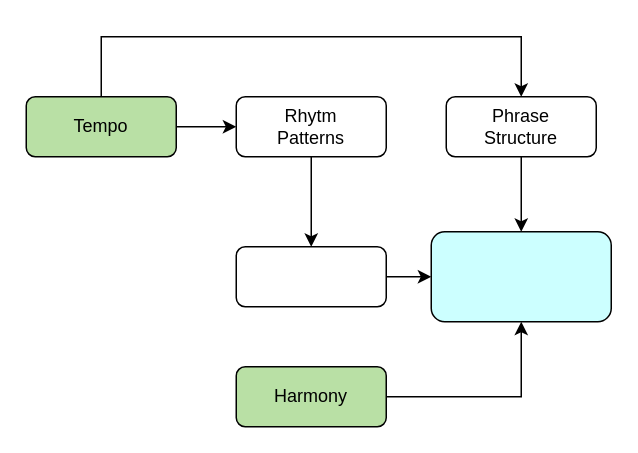
This 638x453 diagram has some shape labels left out. The box of each missing label's shape, as (x1, y1, x2, y2) in pixels:
Melody: (430, 230, 611, 322)
Rhytm Dynamics: (235, 245, 386, 307)
